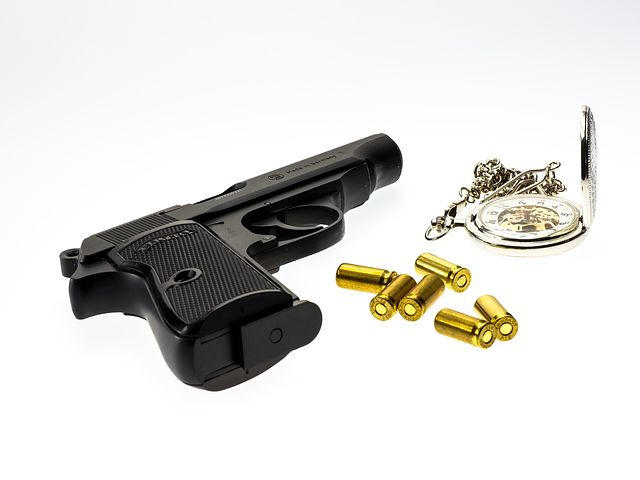gun: (54, 127, 411, 396)
